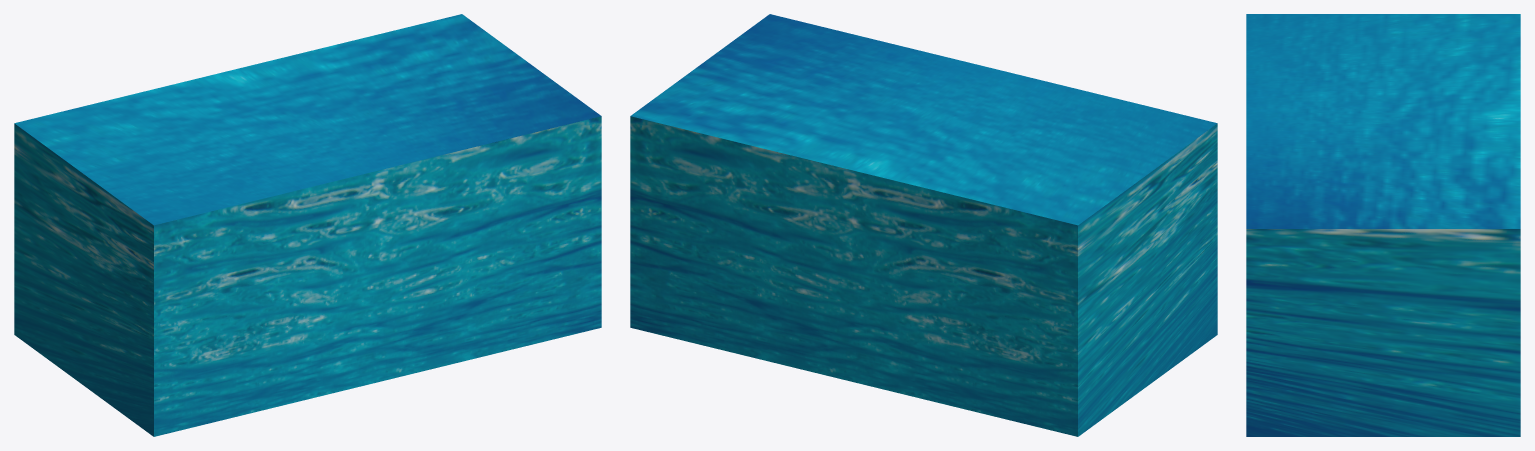
File: UWWaterFloor.dae
3 renders of one model, left to right at view 1: azimuth 30°, elevation 25°; view 2: azimuth 150°, elevation 25°; view 3: azimuth 270°, elevation 25°, orthographic.
Parts seen in each view (by area): view 1: Cube_001; view 2: Cube_001; view 3: Cube_001.
Part boxes in pixels (x1=…): Cube_001: x1=14, y1=14, x2=601, y2=436; Cube_001: x1=630, y1=14, x2=1217, y2=436; Cube_001: x1=1246, y1=14, x2=1520, y2=436.
Size of the model in its own units: 1556 by 840 by 702.
1 material, 1 textured.
